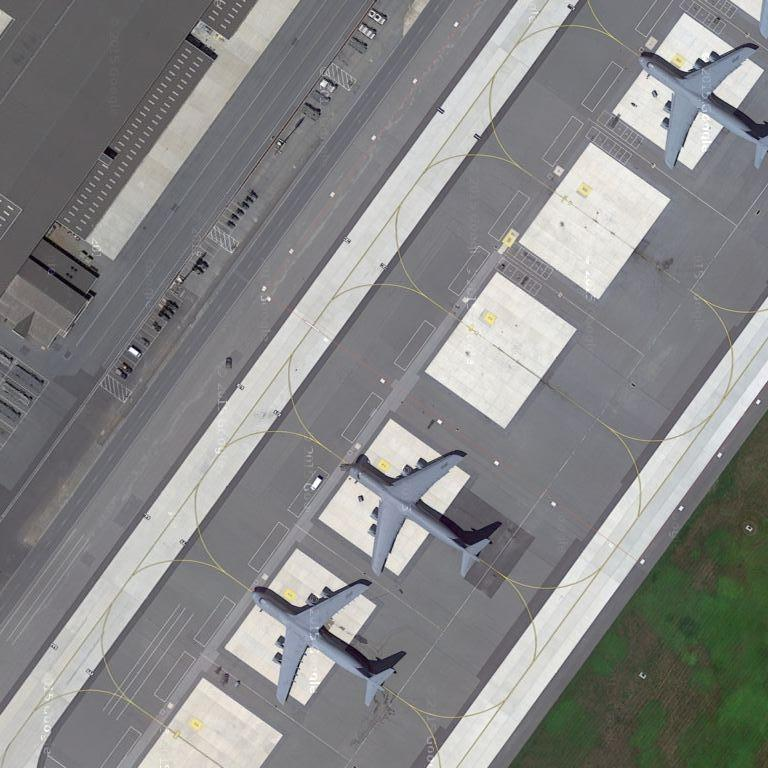KC-135: (345, 443, 496, 583), (249, 576, 400, 707), (641, 36, 763, 177)
